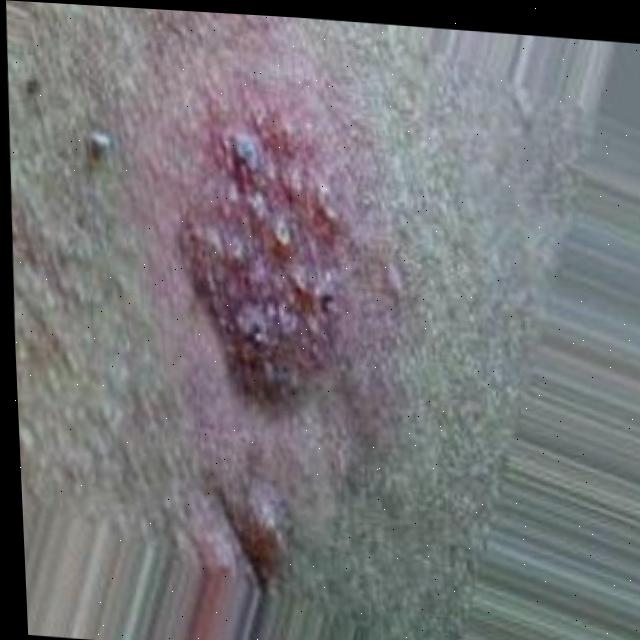Shingles: (189, 129, 331, 409)
